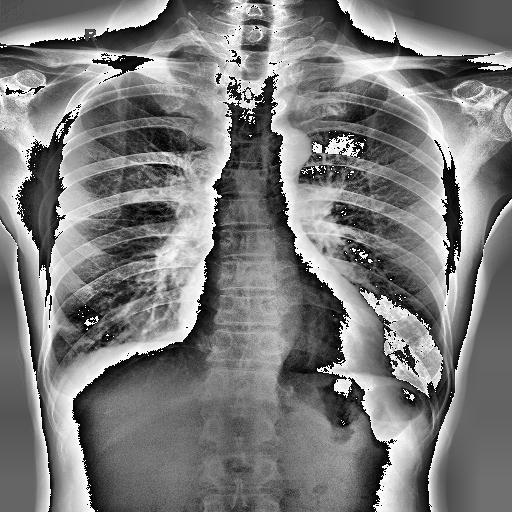0- Aortic enlargement: (268, 127, 314, 166)
10- Pleural effusion: (41, 368, 96, 408), (42, 368, 72, 400)
11- Pleural thickening: (41, 368, 96, 408), (42, 368, 72, 400), (45, 317, 73, 335)
13- Pulmonary fibrosis: (45, 317, 73, 335), (50, 320, 86, 332)
3- Cardiomegaly: (179, 267, 383, 371)
